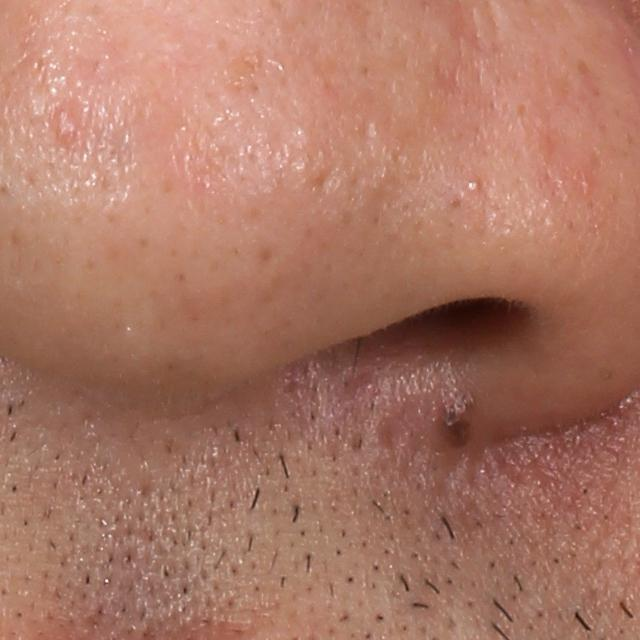comedo: (465, 176, 481, 195)
nevus: (431, 383, 501, 450)
